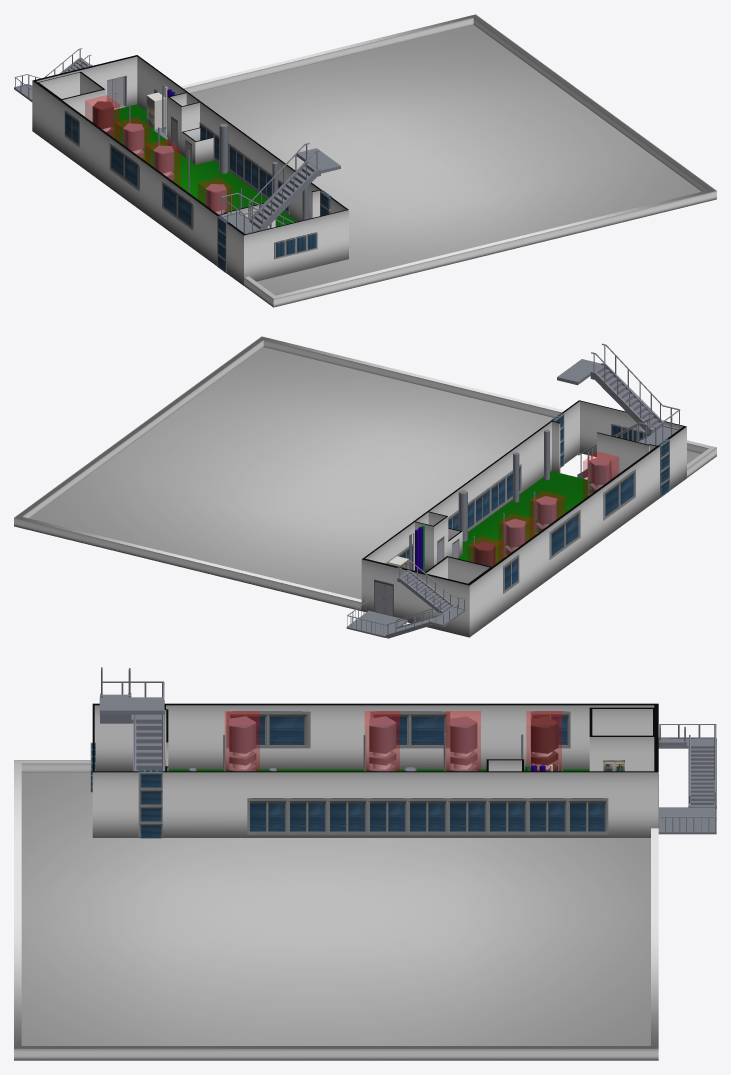
File: soulbrain_T6-3-3F.glb
The picture shows the model from 3 angles, top to bottom: view 1: azimuth 30°, elevation 25°; view 2: azimuth 150°, elevation 25°; view 3: azimuth 270°, elevation 25°; orthographic projection. The views are drawn at different scales.
Visible parts, largest first — view 1: Box1669, Box223, Box067, T6-3-3F, Line590, Line625, Rectangle1232, Line1017, Line1019, equipment-T6-3-3F-003, equipment-T6-3-3F-001, equipment-T6-3-3F-002 (+2 smaller); view 2: Box1669, Box223, Box067, Line590, T6-3-3F, Line625, Rectangle1232, Line1019, Line1017, equipment-T6-3-3F-004, equipment-T6-3-3F-003, equipment-T6-3-3F-002 (+1 smaller); view 3: Box1669, Box223, T6-3-3F, Box067, Line590, Rectangle1232, equipment-T6-3-3F-002, equipment-T6-3-3F-004, equipment-T6-3-3F-003, equipment-T6-3-3F-001, Line625.
Part boxes in pixels (left/top/right/bottom): Box1669: left=191, top=25, right=701, bottom=295; Box223: left=32, top=55, right=348, bottom=285; Box067: left=180, top=14, right=716, bottom=307; T6-3-3F: left=64, top=75, right=332, bottom=273; Line590: left=14, top=48, right=340, bottom=234; Line625: left=112, top=104, right=296, bottom=226; Rectangle1232: left=92, top=101, right=241, bottom=214; Line1017: left=167, top=92, right=213, bottom=164; Line1019: left=162, top=84, right=308, bottom=220; equipment-T6-3-3F-003: left=145, top=139, right=180, bottom=185; equipment-T6-3-3F-001: left=85, top=95, right=119, bottom=141; equipment-T6-3-3F-002: left=115, top=117, right=149, bottom=163; Box1669: left=30, top=347, right=700, bottom=599; Box223: left=361, top=400, right=686, bottom=637; Box067: left=14, top=336, right=716, bottom=610; Line590: left=346, top=343, right=680, bottom=638; T6-3-3F: left=374, top=413, right=669, bottom=616; Line625: left=458, top=471, right=592, bottom=564; Rectangle1232: left=473, top=452, right=611, bottom=566; Line1019: left=409, top=429, right=549, bottom=572; Line1017: left=415, top=511, right=462, bottom=571; equipment-T6-3-3F-004: left=583, top=451, right=618, bottom=499; equipment-T6-3-3F-003: left=529, top=491, right=565, bottom=537; equipment-T6-3-3F-002: left=498, top=514, right=533, bottom=560; Box1669: left=21, top=772, right=650, bottom=1045; Box223: left=92, top=703, right=658, bottom=837; T6-3-3F: left=90, top=711, right=658, bottom=838; Box067: left=14, top=760, right=658, bottom=1060; Line590: left=99, top=667, right=716, bottom=834; Rectangle1232: left=223, top=716, right=558, bottom=771; equipment-T6-3-3F-002: left=446, top=711, right=480, bottom=770; equipment-T6-3-3F-004: left=225, top=711, right=259, bottom=770; equipment-T6-3-3F-003: left=365, top=711, right=399, bottom=770; equipment-T6-3-3F-001: left=526, top=711, right=561, bottom=770; Line625: left=168, top=769, right=589, bottom=771.
Bounding box in the file's own units: 34.15 × 8.41 × 35.03.
18 materials, 15 textured.
